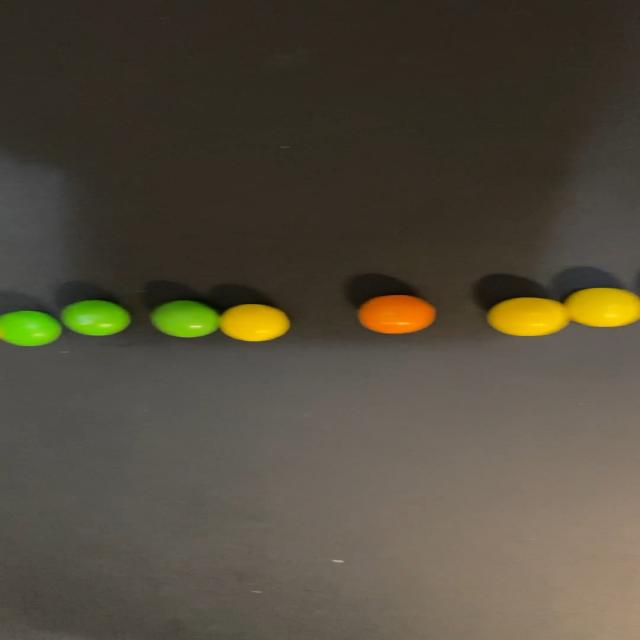smartie: (488, 298, 570, 336), (358, 295, 435, 334), (564, 288, 640, 327), (219, 304, 289, 342), (149, 300, 218, 338), (59, 300, 129, 336), (0, 311, 60, 346)
